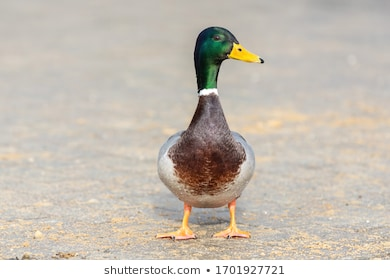duck: (145, 20, 284, 252)
